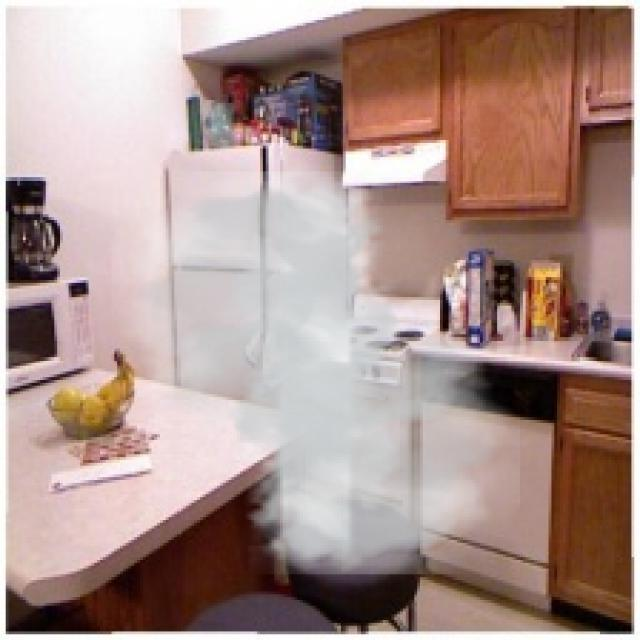Smoke: (111, 172, 520, 574)
